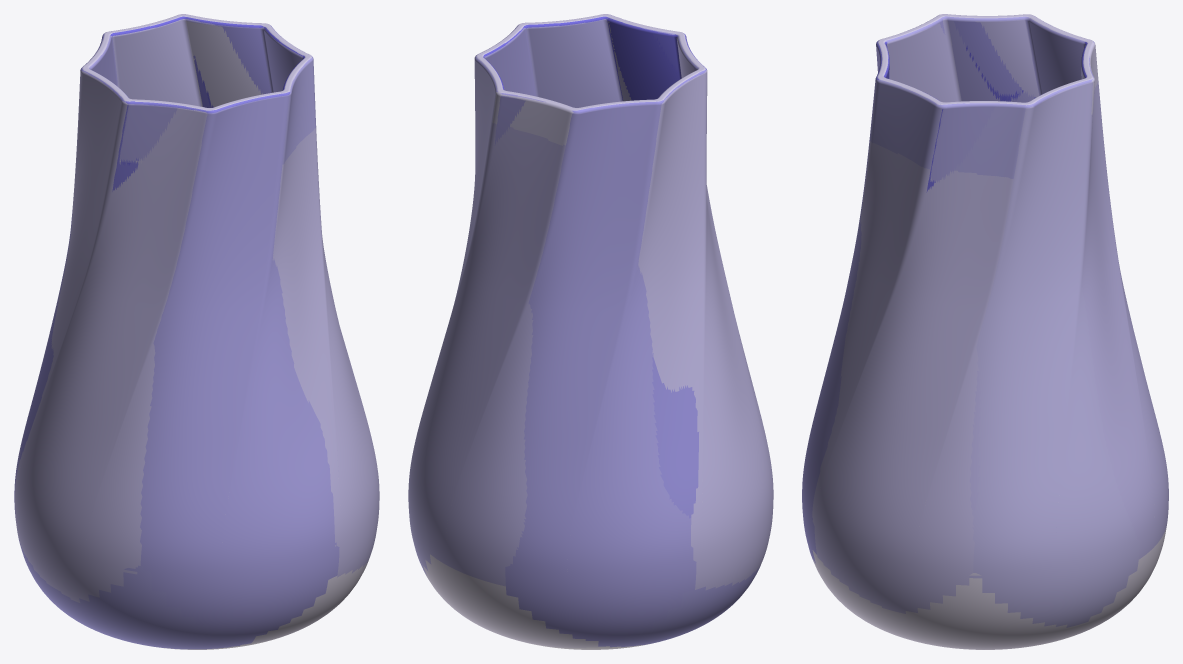
File: vase-small.glb
3 renders of one model, left to right at view 1: azimuth 30°, elevation 25°; view 2: azimuth 150°, elevation 25°; view 3: azimuth 270°, elevation 25°, orthographic.
Parts seen in each view (by area): view 1: vase collection; view 2: vase collection; view 3: vase collection.
Boxes of the visible parts, <box> form: vase collection: <box>14,14,379,649</box>; vase collection: <box>408,14,773,649</box>; vase collection: <box>802,14,1168,649</box>.
Size of the model in its own units: 0.1524 by 0.25 by 0.1524.
Materials: 1 (1 with a texture image).
